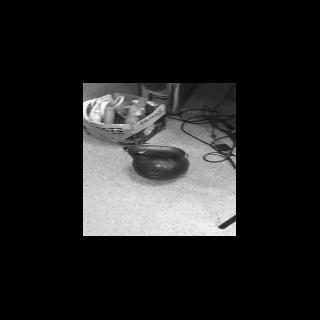kettlebell: (125, 141, 192, 182)
